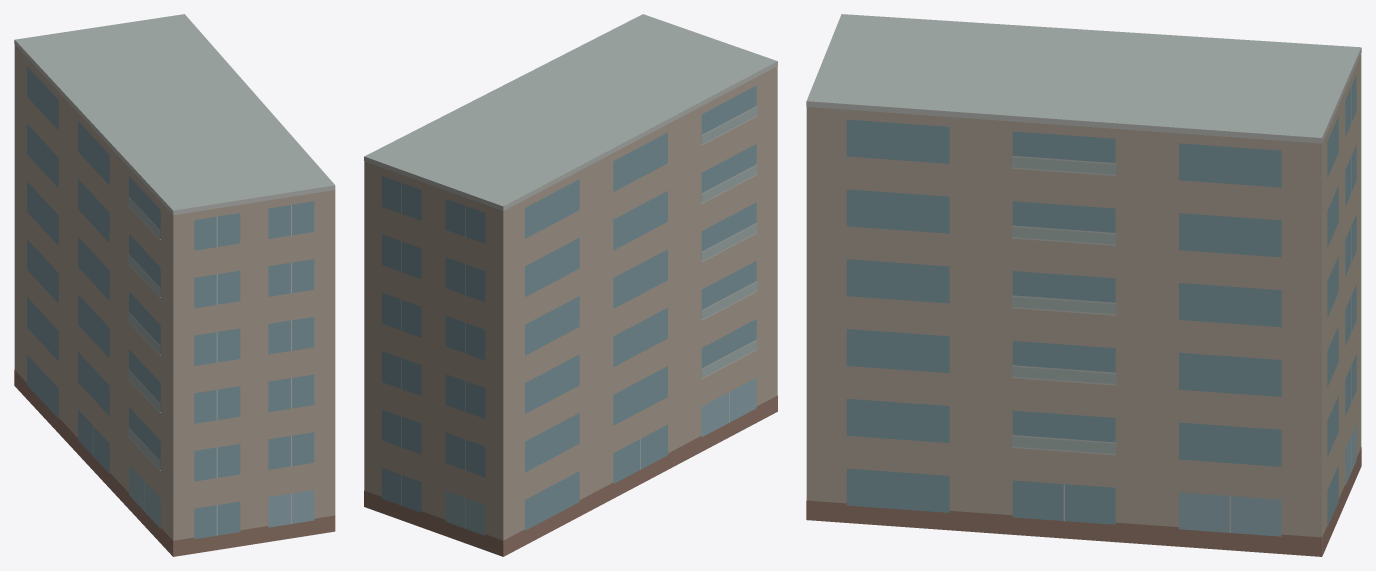
The model's file is survey-upis-32937815.glb.
The picture shows the model from 3 angles, left to right: view 1: azimuth 30°, elevation 25°; view 2: azimuth 150°, elevation 25°; view 3: azimuth 270°, elevation 25°; orthographic projection. The views are drawn at different scales.
Visible parts, largest first — view 1: survey-upis-32937815.tmp; view 2: survey-upis-32937815.tmp; view 3: survey-upis-32937815.tmp.
Boxes of the visible parts, x1,y1,x2,y2 form: survey-upis-32937815.tmp: (14,14,335,556); survey-upis-32937815.tmp: (364,14,777,556); survey-upis-32937815.tmp: (806,14,1361,556).
Size of the model in its own units: 11.63 by 18.3 by 21.99.
